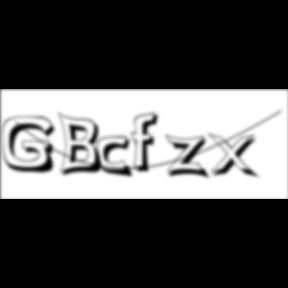B: (58, 111, 108, 179)
G: (2, 116, 62, 176)
c: (97, 136, 137, 180)
f: (131, 111, 164, 175)
x: (208, 132, 262, 181)
z: (164, 134, 214, 182)
